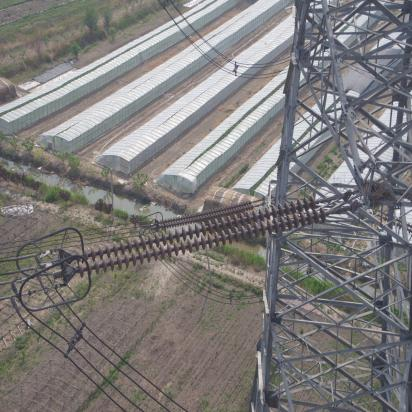insulator: (70, 195, 337, 280)
